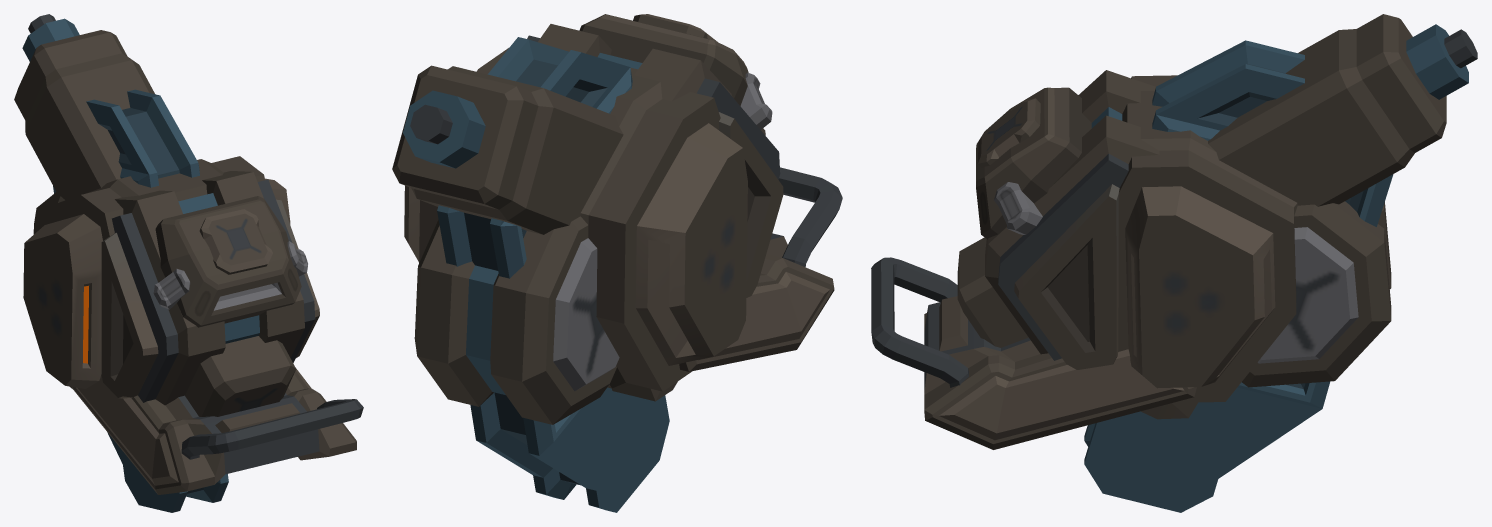
File: SM_Mech_Leg_01_Armor_Shinpad_05.fbx
3 views of the same model, side by side, from view 1: azimuth 30°, elevation 25°; view 2: azimuth 150°, elevation 25°; view 3: azimuth 270°, elevation 25° (orthographic). The views are drawn at different scales.
Visible parts, largest first — view 1: SM_Mech_Leg_01_Armor_Shinpad_05; view 2: SM_Mech_Leg_01_Armor_Shinpad_05; view 3: SM_Mech_Leg_01_Armor_Shinpad_05.
Boxes of the visible parts, x1,y1,x2,y2 form: SM_Mech_Leg_01_Armor_Shinpad_05: (14,14,363,512); SM_Mech_Leg_01_Armor_Shinpad_05: (392,14,842,512); SM_Mech_Leg_01_Armor_Shinpad_05: (871,14,1477,512).
Size of the model in its own units: 54.21 by 94.98 by 111.
